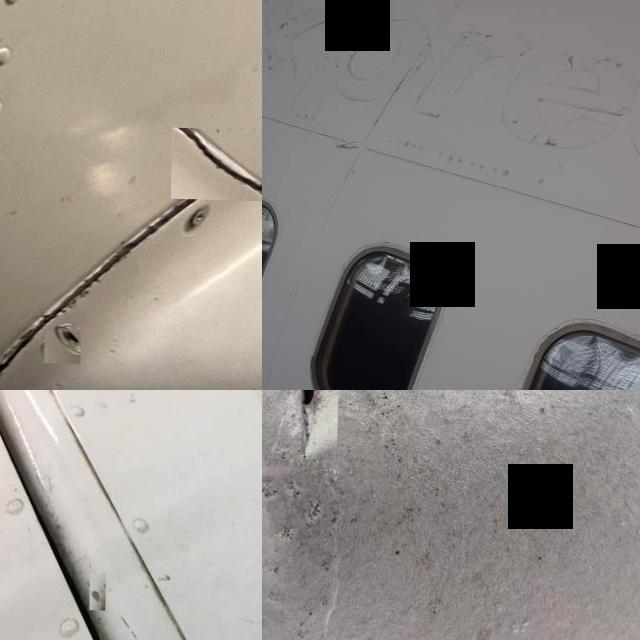Crack: (27, 175, 195, 342), (172, 125, 262, 199), (262, 390, 339, 459), (90, 572, 106, 610), (336, 140, 366, 151)
Missing_Fastener: (47, 324, 83, 362)
